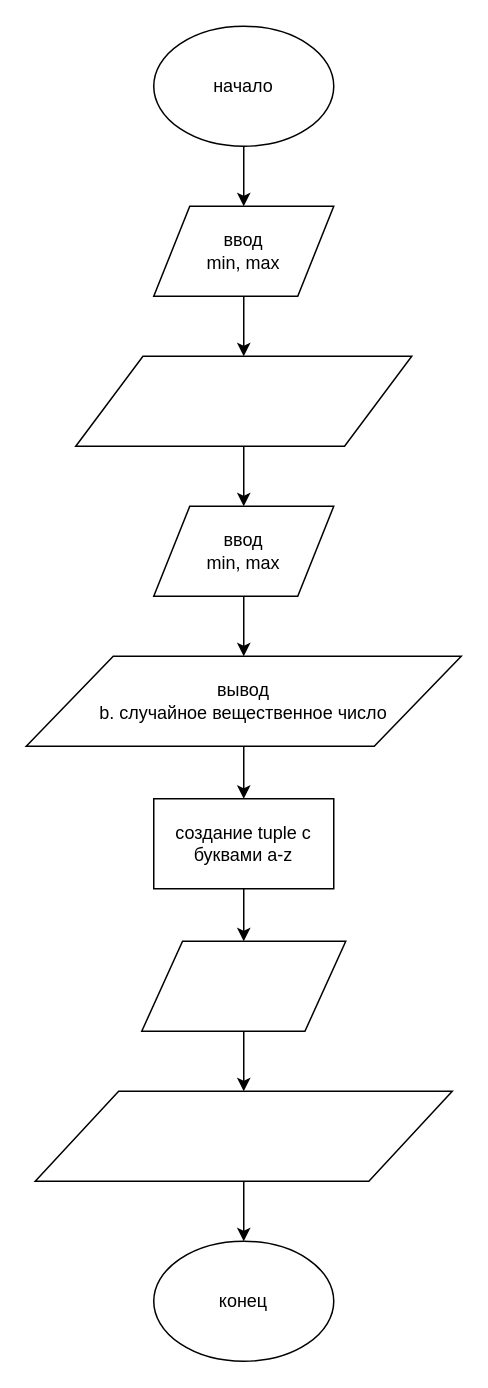
Image size: 488x1388. Some labels were removed from this diagram. Each missing label, with the centre of its shape:
ввод char_1, char_2: [243,985]
вывод a. случайное целое число: [243,400]
вывод c. случайный символ от a до z: [243,1135]
